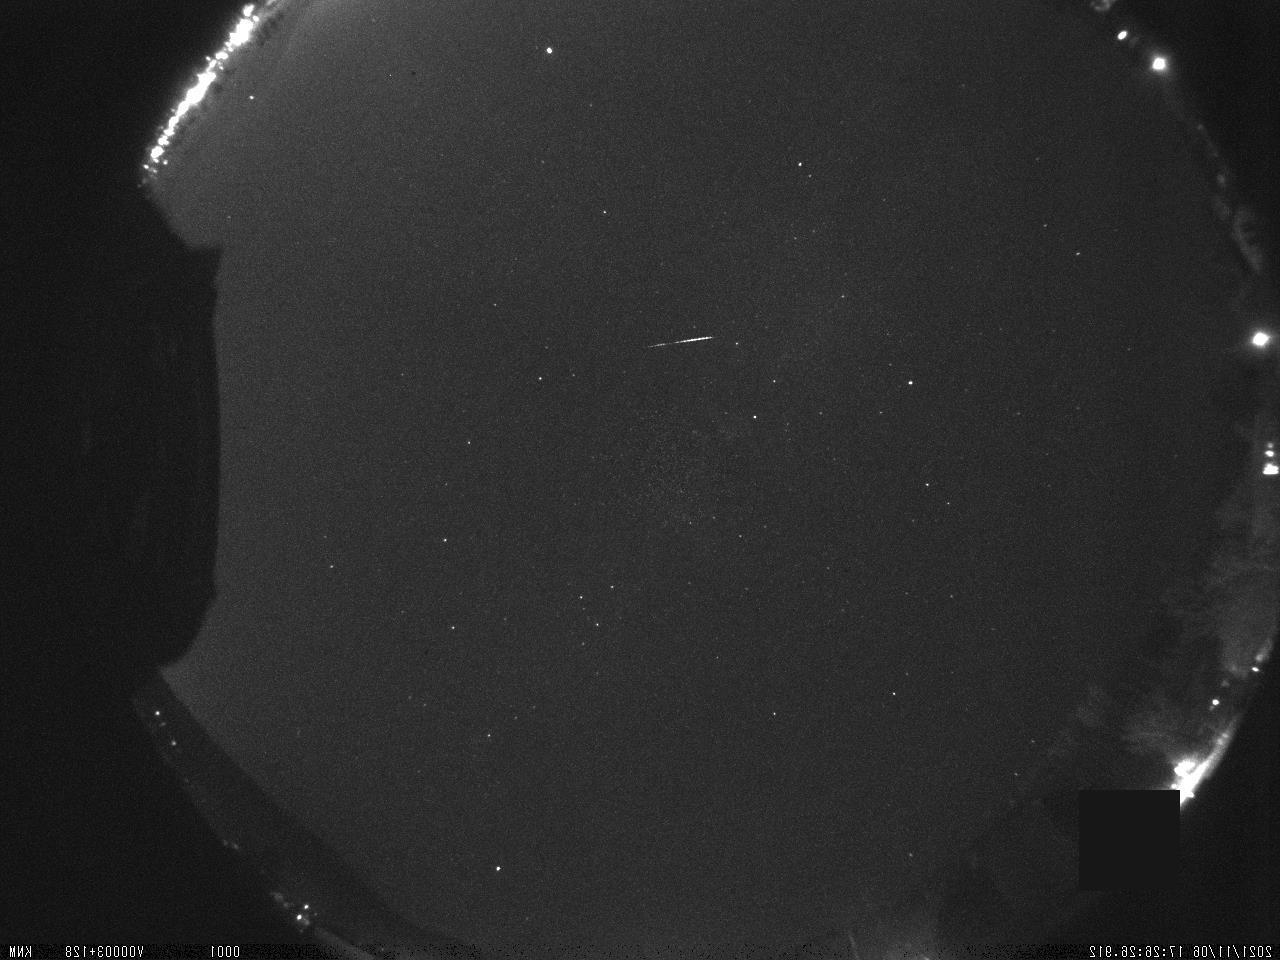meteor: (607, 328, 728, 356)
